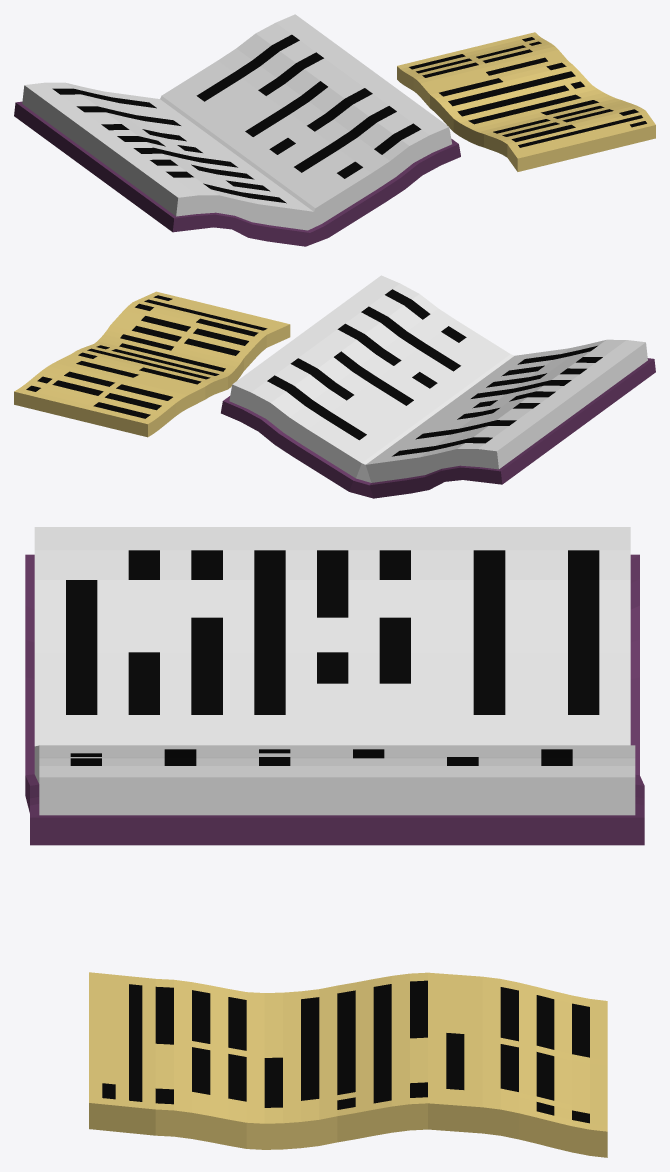
File: Readables.glb
The picture shows the model from 3 angles, top to bottom: view 1: azimuth 30°, elevation 25°; view 2: azimuth 150°, elevation 25°; view 3: azimuth 270°, elevation 25°; orthographic projection. The views are drawn at different scales.
Parts seen in each view (by area): view 1: Book, Note; view 2: Book, Note; view 3: Book, Note.
Part boxes in pixels (bbox=[...]): Book: bbox=[14, 14, 460, 246]; Note: bbox=[397, 32, 655, 171]; Book: bbox=[221, 275, 655, 498]; Note: bbox=[14, 291, 290, 437]; Book: bbox=[25, 527, 644, 845]; Note: bbox=[89, 972, 607, 1157].
Bounding box in the file's own units: 3.85 × 0.5949 × 2.08.
